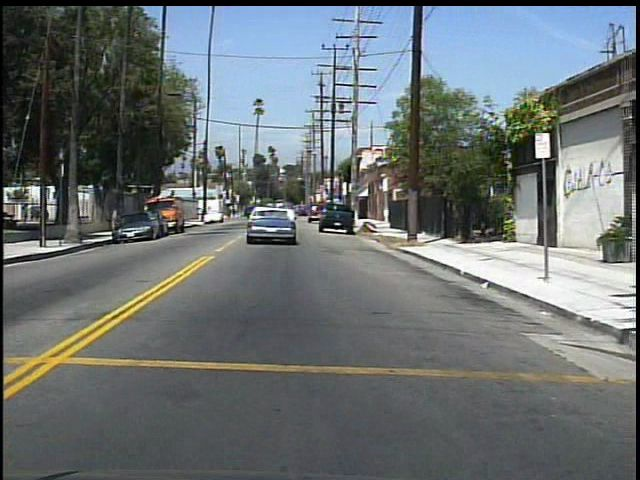person: (108, 201, 122, 235), (19, 200, 36, 225), (72, 198, 86, 227)
